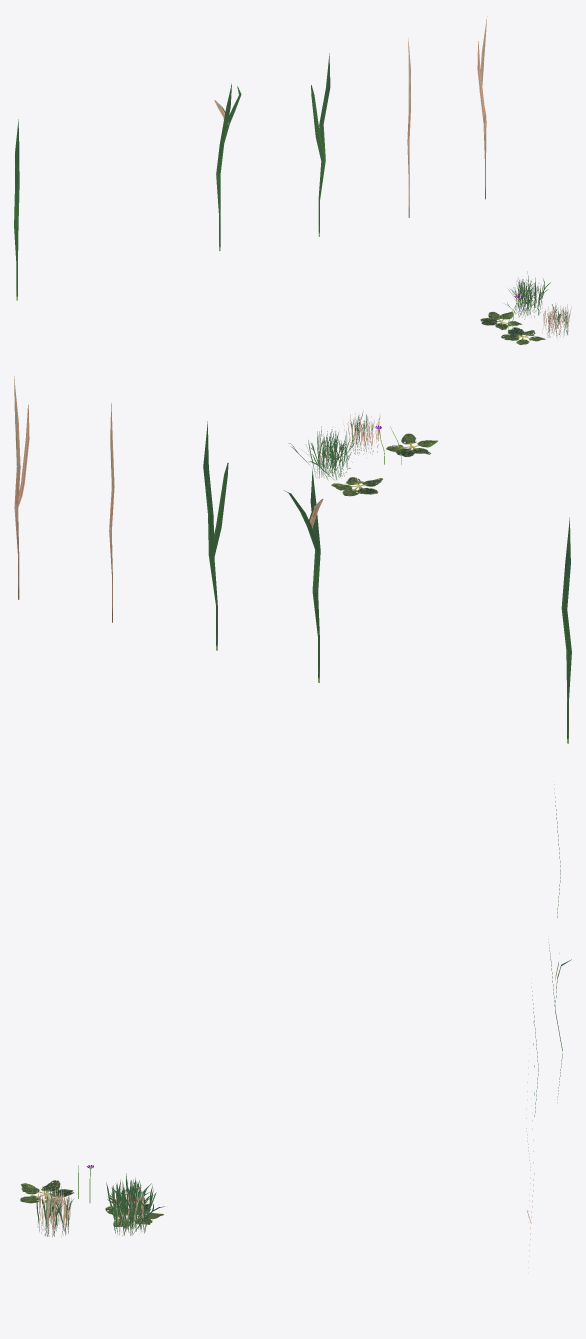
The model's file is weeds-and-grass-7e2b98aa.glb.
The picture shows the model from 3 angles, top to bottom: view 1: azimuth 30°, elevation 25°; view 2: azimuth 150°, elevation 25°; view 3: azimuth 270°, elevation 25°; orthographic projection. The views are drawn at different scales.
Visible parts, largest first — view 1: Grass Blade.003, Grass Blade.002, Grass Plant green, Grass Blade, Grass Blade.005, Grass plant brown, Grass Blade.004, weed.000, weed.001; view 2: Grass Blade.003, Grass Plant green, Grass Blade.002, Grass Blade.005, Grass Blade, Grass plant brown, weed.001, weed.000, Grass Blade.004; view 3: Grass Plant green, Grass plant brown, weed.001.
Boxes of the visible parts, x1=… form: Grass Blade.003: x1=311, y1=53, x2=330, y2=236; Grass Blade.002: x1=214, y1=83, x2=241, y2=250; Grass Plant green: x1=503, y1=271, x2=550, y2=319; Grass Blade: x1=14, y1=119, x2=19, y2=300; Grass Blade.005: x1=477, y1=16, x2=487, y2=199; Grass plant brown: x1=542, y1=303, x2=571, y2=337; Grass Blade.004: x1=407, y1=38, x2=410, y2=217; weed.000: x1=480, y1=311, x2=522, y2=329; weed.001: x1=501, y1=327, x2=545, y2=345; Grass Blade.003: x1=203, y1=421, x2=228, y2=650; Grass Plant green: x1=289, y1=426, x2=354, y2=480; Grass Blade.002: x1=284, y1=469, x2=323, y2=682; Grass Blade.005: x1=14, y1=376, x2=29, y2=599; Grass Blade: x1=561, y1=517, x2=571, y2=743; Grass plant brown: x1=343, y1=410, x2=380, y2=455; weed.001: x1=386, y1=433, x2=438, y2=457; weed.000: x1=331, y1=477, x2=383, y2=496; Grass Blade.004: x1=109, y1=402, x2=114, y2=622; Grass Plant green: x1=106, y1=1173, x2=164, y2=1236; Grass plant brown: x1=36, y1=1186, x2=74, y2=1237; weed.001: x1=20, y1=1180, x2=74, y2=1205.
Bounding box in the file's own units: 1 × 0.3838 × 0.7732.
Materials: 7 (4 with a texture image).
